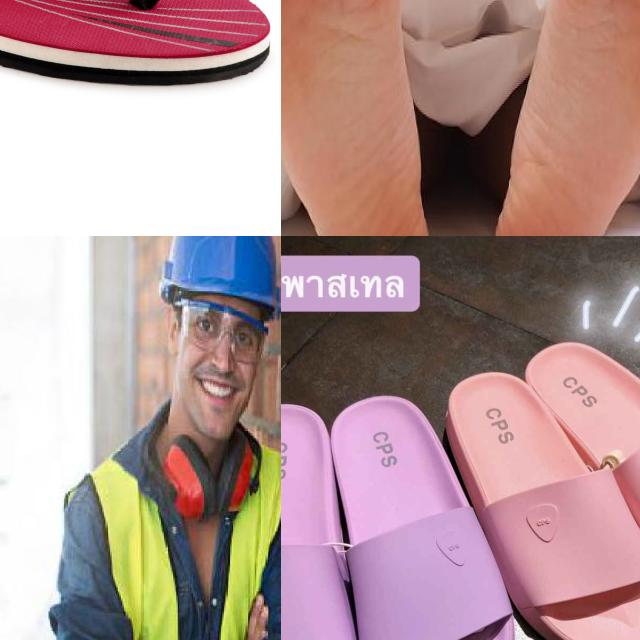Barefoots: (281, 0, 437, 236), (495, 0, 640, 236)
Ear-protection: (122, 401, 281, 533)
Sandals: (281, 383, 529, 640), (439, 335, 640, 640), (0, 0, 272, 87)
glasses: (174, 294, 270, 365)
head_helmet: (149, 236, 281, 329)
person: (25, 236, 281, 640)
vest: (44, 429, 281, 640)
